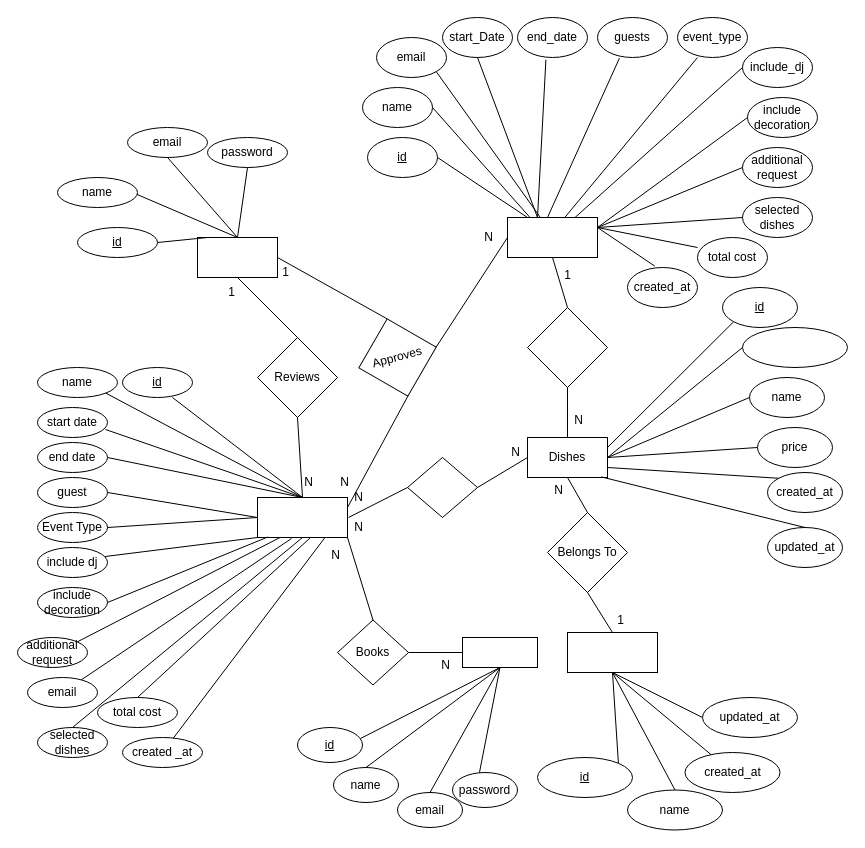
Image size: 865x848. Some labels were removed from this diagram. Here are the shapes that lost their labels. From the top down, the centre of each, then its label:
(237,257): Admin
(552,237): Approved Bookings
(567,347): Contains
(795,347): category_id(FK)
(442,487): includes
(302,517): Bookings
(500,652): User
(612,652): Categories
